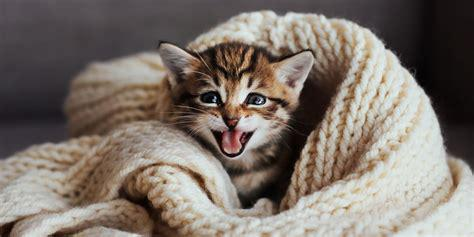cat: (157, 40, 314, 205)
